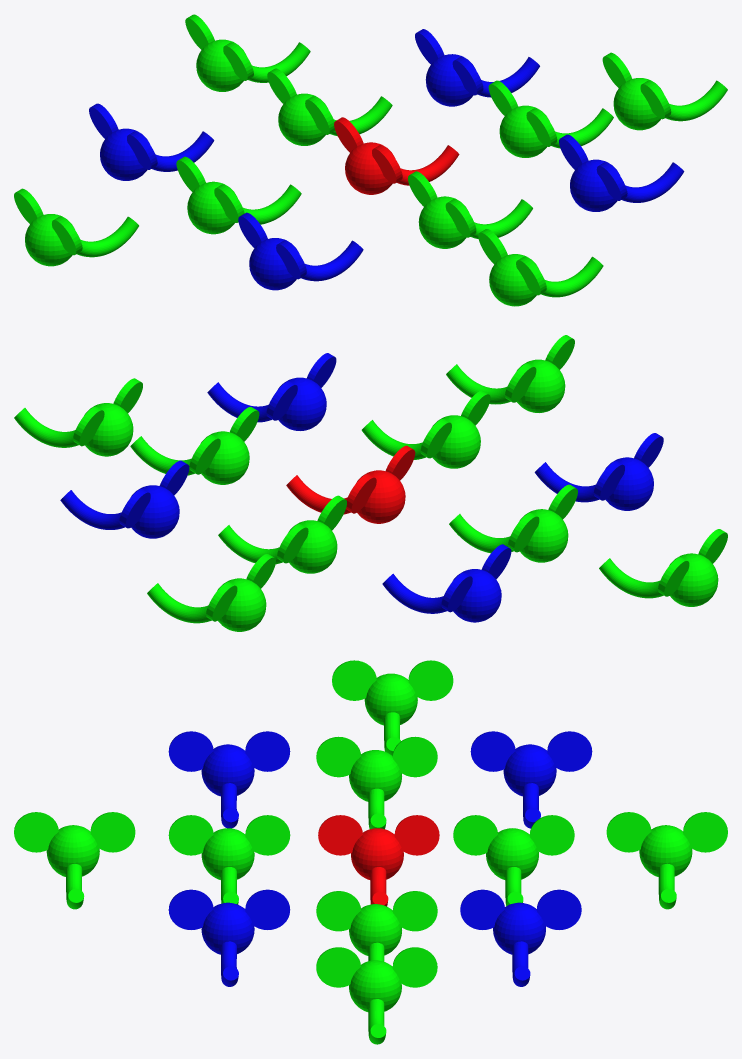
The model's file is asset.glb.
The picture shows the model from 3 angles, top to bottom: view 1: azimuth 30°, elevation 25°; view 2: azimuth 150°, elevation 25°; view 3: azimuth 270°, elevation 25°; orthographic projection. The views are drawn at different scales.
Visible parts, largest first — view 1: Sphere.010, Sphere.003, Sphere.005, Sphere.004, Sphere, Sphere.001, Sphere.002, Sphere.012, Sphere.011, Sphere.008, Sphere.006, Sphere.007 (+40 smaller); view 2: Sphere, Sphere.001, Sphere.009, Sphere.012, Sphere.005, Sphere.010, Sphere.007, Sphere.008, Sphere.004, Sphere.003, Sphere.011, Sphere.002 (+40 smaller); view 3: Sphere.005, Sphere.007, Sphere.006, Sphere.009, Sphere.010, Sphere.002, Sphere.008, Sphere, Sphere.001, Sphere.011, Sphere.004, Sphere.012 (+37 smaller).
Boxes of the visible parts, left/top/right/bottom form: Sphere.010: left=570, top=159, right=620, bottom=211; Sphere.003: left=499, top=105, right=549, bottom=157; Sphere.005: left=25, top=214, right=74, bottom=266; Sphere.004: left=187, top=181, right=237, bottom=234; Sphere: left=345, top=142, right=395, bottom=194; Sphere.001: left=278, top=93, right=328, bottom=145; Sphere.002: left=418, top=196, right=468, bottom=248; Sphere.012: left=100, top=128, right=149, bottom=180; Sphere.011: left=249, top=238, right=299, bottom=290; Sphere.008: left=613, top=78, right=663, bottom=130; Sphere.006: left=489, top=254, right=538, bottom=306; Sphere.007: left=196, top=39, right=246, bottom=91; Sphere: left=356, top=470, right=405, bottom=523; Sphere.001: left=288, top=520, right=337, bottom=573; Sphere.009: left=130, top=485, right=179, bottom=538; Sphere.012: left=452, top=569, right=501, bottom=622; Sphere.005: left=669, top=553, right=718, bottom=606; Sphere.010: left=278, top=377, right=326, bottom=430; Sphere.007: left=217, top=578, right=266, bottom=631; Sphere.008: left=84, top=403, right=133, bottom=456; Sphere.004: left=519, top=509, right=568, bottom=562; Sphere.003: left=200, top=431, right=249, bottom=484; Sphere.011: left=605, top=457, right=653, bottom=510; Sphere.002: left=432, top=415, right=480, bottom=468; Sphere.005: left=364, top=673, right=417, bottom=725; Sphere.007: left=639, top=825, right=692, bottom=876; Sphere.006: left=46, top=825, right=99, bottom=876; Sphere.009: left=493, top=902, right=545, bottom=954; Sphere.010: left=201, top=902, right=254, bottom=954; Sphere.002: left=201, top=828, right=254, bottom=879; Sphere.008: left=349, top=960, right=401, bottom=1011; Sphere: left=351, top=828, right=403, bottom=879; Sphere.001: left=486, top=828, right=538, bottom=879; Sphere.011: left=201, top=744, right=254, bottom=796; Sphere.004: left=349, top=750, right=401, bottom=801; Sphere.012: left=503, top=744, right=556, bottom=796.
Bounding box in the file's own units: 30.36 × 2.68 × 26.84.
